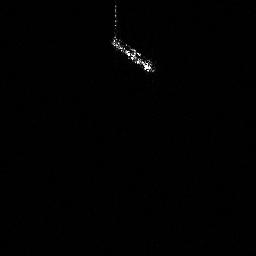ship: (109, 2, 158, 74)
